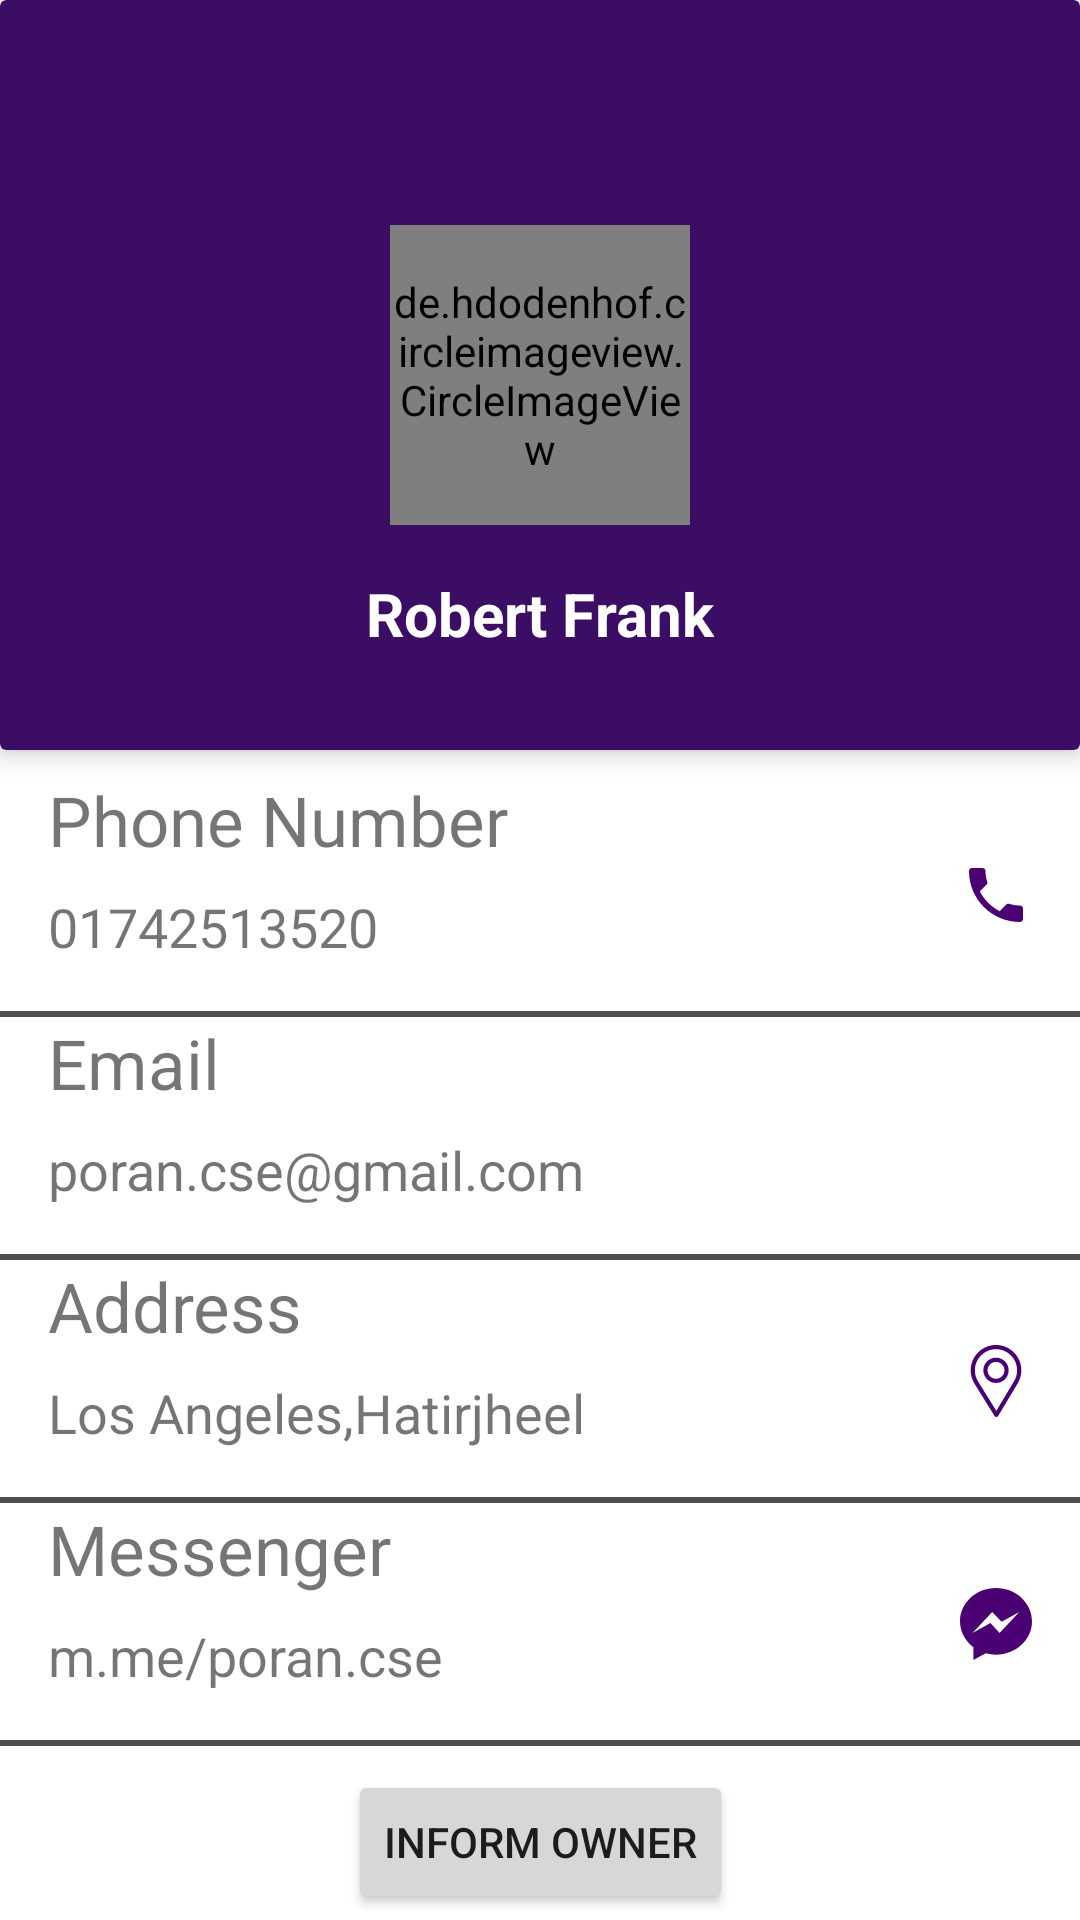

Locate icon controls on the screen. Image size 1080px×1920px, boxes as (x1, y1, x2, y2).
call: (969, 868, 1023, 922)
location: (970, 1345, 1022, 1417)
